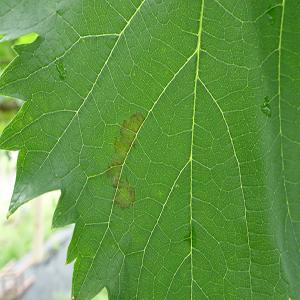Folha: (2, 0, 300, 300)
Fungo: (106, 110, 146, 211), (112, 175, 136, 211)
